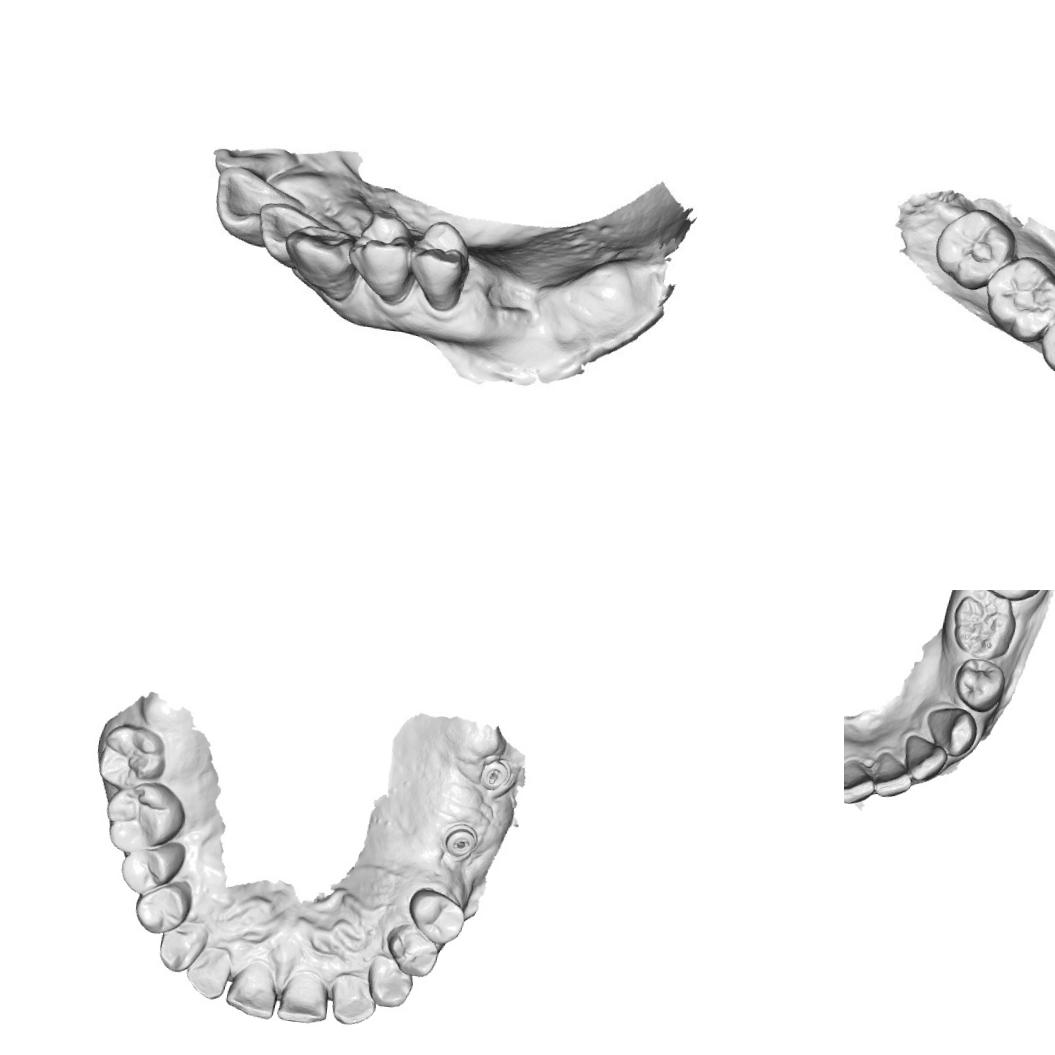canine: (279, 219, 359, 302), (152, 918, 212, 977), (921, 702, 982, 758), (362, 952, 418, 1012)
implant_minus: (438, 821, 482, 861), (476, 754, 514, 794)
incisor: (208, 157, 304, 251), (257, 197, 340, 274), (221, 954, 285, 1022), (274, 968, 334, 1030), (325, 968, 382, 1030), (182, 941, 233, 1002), (896, 737, 951, 788), (863, 753, 916, 803), (844, 758, 880, 808)
molar: (929, 202, 1020, 296), (974, 249, 1055, 346), (100, 775, 190, 862), (945, 590, 1021, 663), (94, 720, 171, 792)
premolar: (406, 220, 477, 317), (354, 210, 420, 302), (402, 883, 470, 949), (131, 877, 196, 940), (116, 841, 180, 900), (950, 654, 1008, 716), (383, 921, 443, 980), (1035, 304, 1055, 381)
